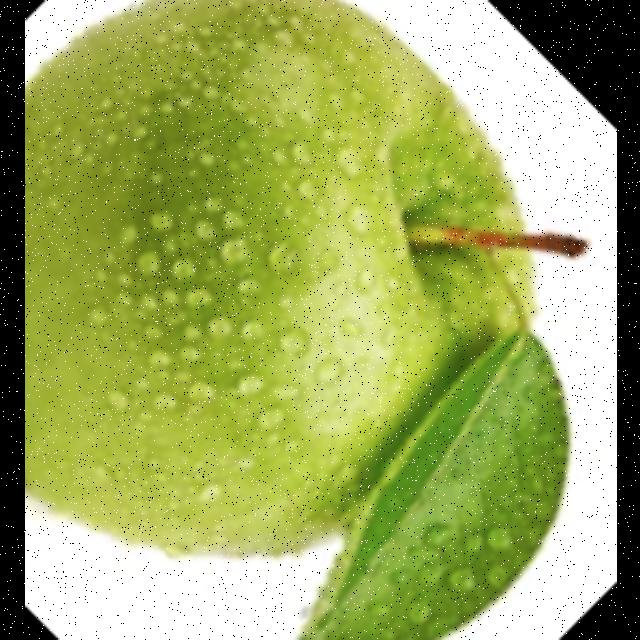Apel Segar: (23, 0, 520, 557)
